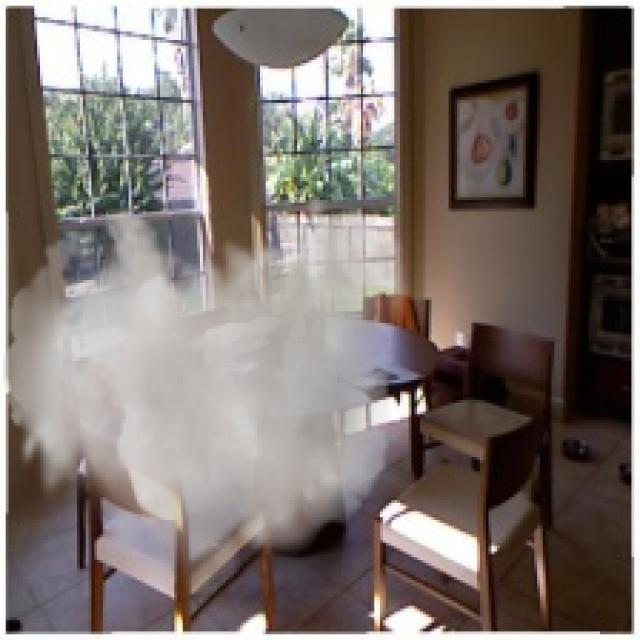Smoke: (2, 192, 408, 608)
